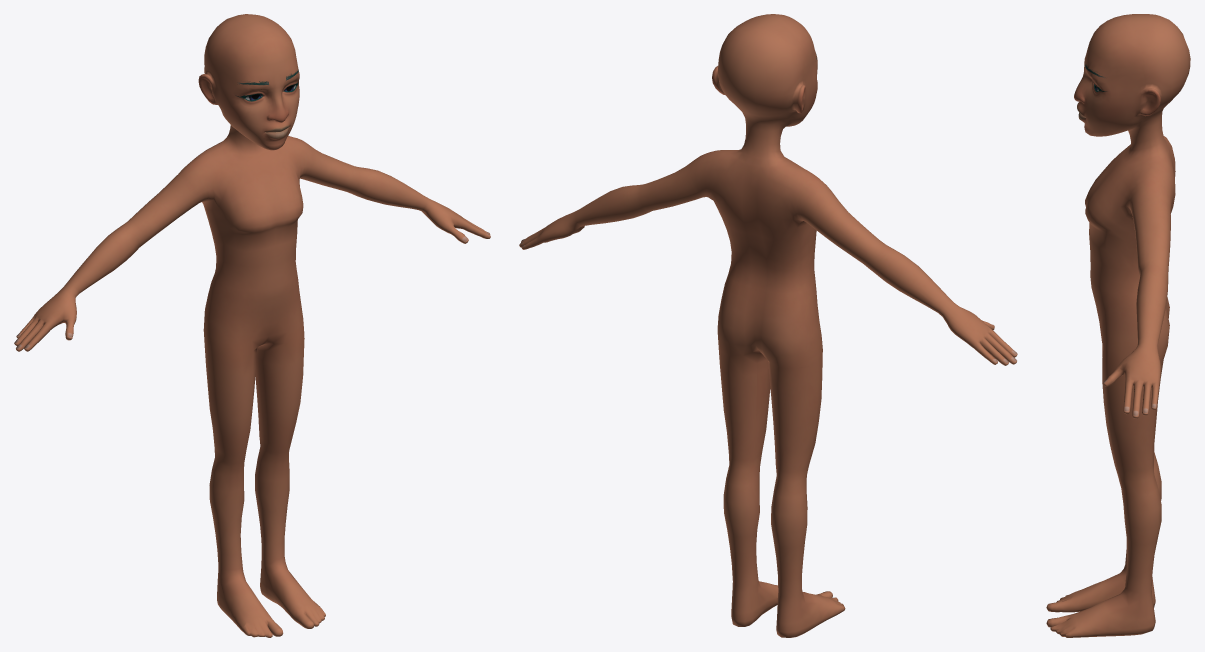
The model's file is frame_0032.glb.
3 views of the same model, side by side, from view 1: azimuth 30°, elevation 25°; view 2: azimuth 150°, elevation 25°; view 3: azimuth 270°, elevation 25° (orthographic). The views are drawn at different scales.
Visible parts, largest first — view 1: frame_0032_head_geo; view 2: frame_0032_head_geo; view 3: frame_0032_head_geo.
Boxes of the visible parts, x1,y1,x2,y2 form: frame_0032_head_geo: (14,14,490,637); frame_0032_head_geo: (519,14,1017,637); frame_0032_head_geo: (1046,14,1190,637).
Bounding box in the file's own units: 1.28 × 1.5 × 0.3253.
Materials: 3 (3 with a texture image).
